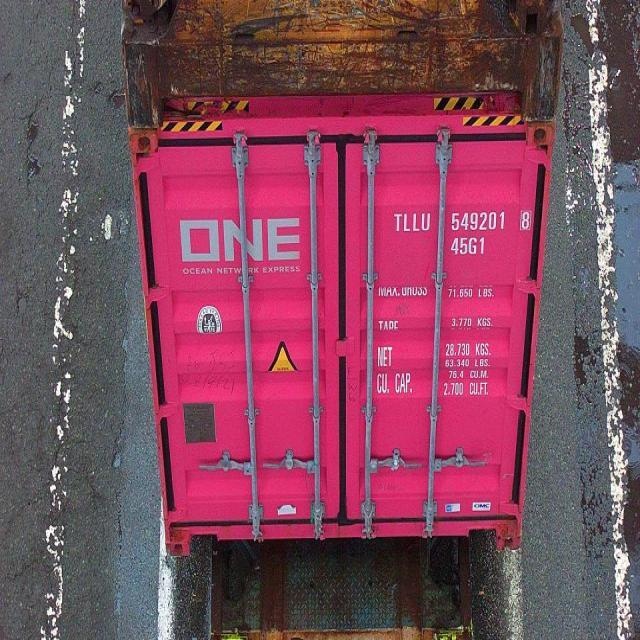ISO: (451, 237, 488, 256)
container_number: (395, 211, 526, 233)
